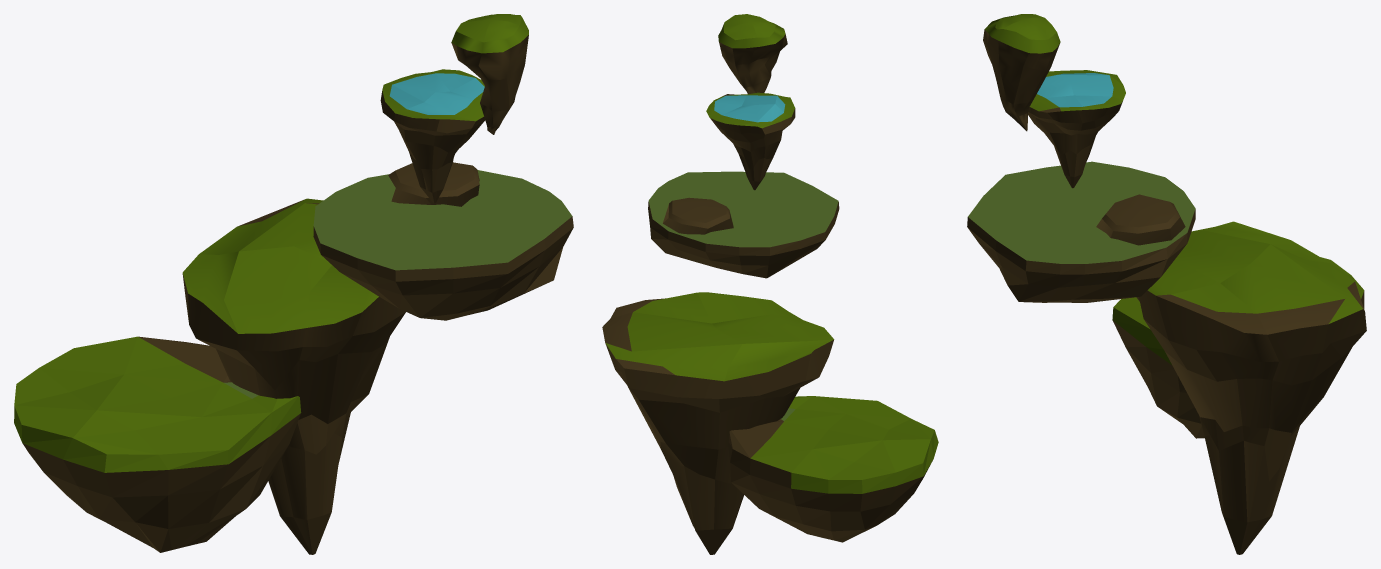
Rendered from Platforms_notexture_fbx.fbx.
3 views of the same model, side by side, from view 1: azimuth 30°, elevation 25°; view 2: azimuth 150°, elevation 25°; view 3: azimuth 270°, elevation 25° (orthographic). The views are drawn at different scales.
Visible parts, largest first — view 1: Trial_Level_2:Trial_Level_2:Trial_Level_2:Trial_Level_2:pCub, pCube5, polySurface19, polySurface468, polySurface463, polySurface23; view 2: pCube5, Trial_Level_2:Trial_Level_2:Trial_Level_2:Trial_Level_2:pCub, polySurface19, polySurface468, polySurface463, polySurface23; view 3: pCube5, polySurface19, polySurface468, polySurface463, Trial_Level_2:Trial_Level_2:Trial_Level_2:Trial_Level_2:pCub, polySurface23.
Boxes of the visible parts, x1,y1,x2,y2 form: Trial_Level_2:Trial_Level_2:Trial_Level_2:Trial_Level_2:pCub: (14, 336, 301, 552); pCube5: (182, 198, 405, 554); polySurface19: (313, 170, 573, 320); polySurface468: (380, 69, 485, 203); polySurface463: (451, 14, 528, 134); polySurface23: (388, 162, 479, 206); pCube5: (602, 292, 834, 554); Trial_Level_2:Trial_Level_2:Trial_Level_2:Trial_Level_2:pCub: (728, 396, 938, 542); polySurface19: (648, 171, 839, 278); polySurface468: (706, 92, 795, 190); polySurface463: (718, 14, 787, 93); polySurface23: (663, 197, 733, 234); pCube5: (1136, 221, 1366, 554); polySurface19: (967, 161, 1195, 302); polySurface468: (1028, 70, 1125, 188); polySurface463: (983, 14, 1060, 131); Trial_Level_2:Trial_Level_2:Trial_Level_2:Trial_Level_2:pCub: (1112, 257, 1364, 438); polySurface23: (1096, 194, 1185, 245).
Size of the model in its own units: 30.03 by 39.44 by 25.35.
